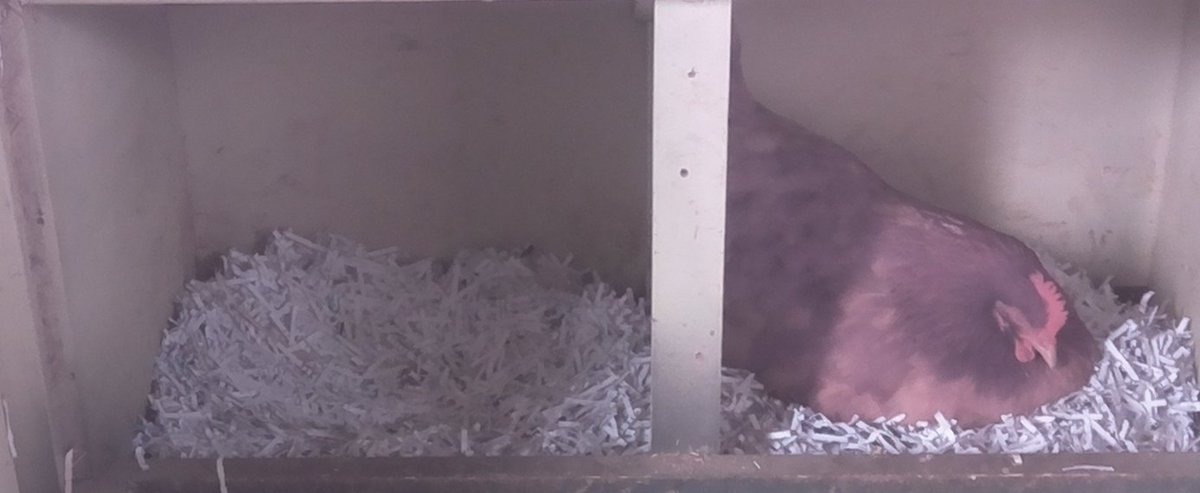hen: (730, 64, 1104, 437)
